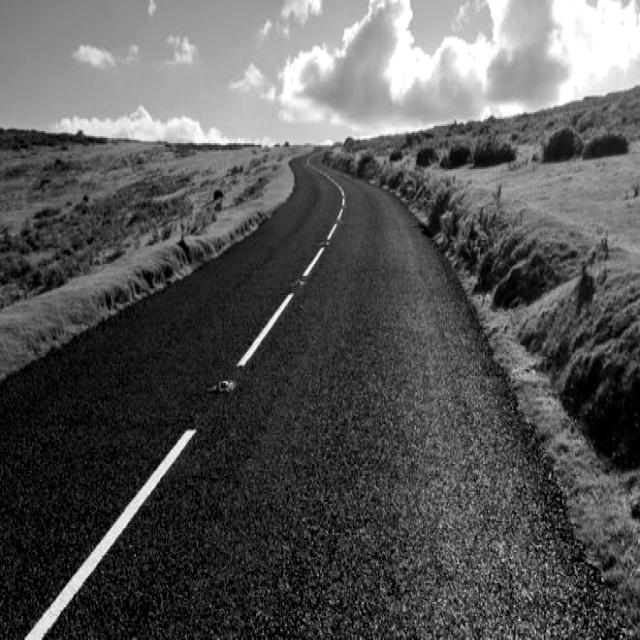cleat: (171, 27, 528, 640)
